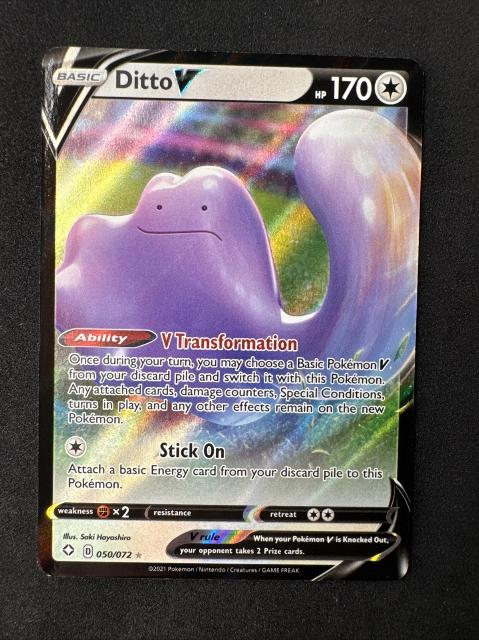Card: (32, 39, 431, 587)
Name: (109, 60, 215, 97)
